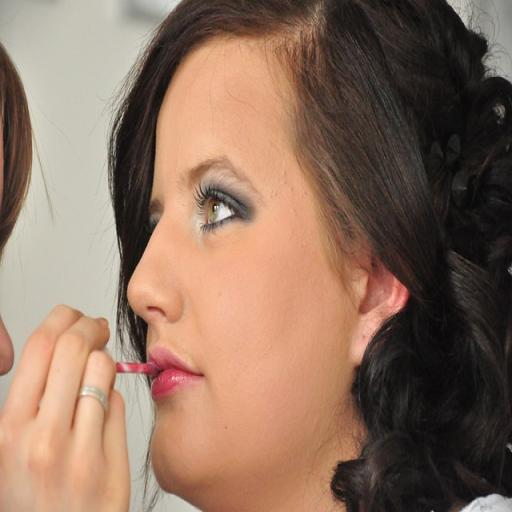lipstick: (149, 347, 203, 401), (116, 362, 160, 375)
